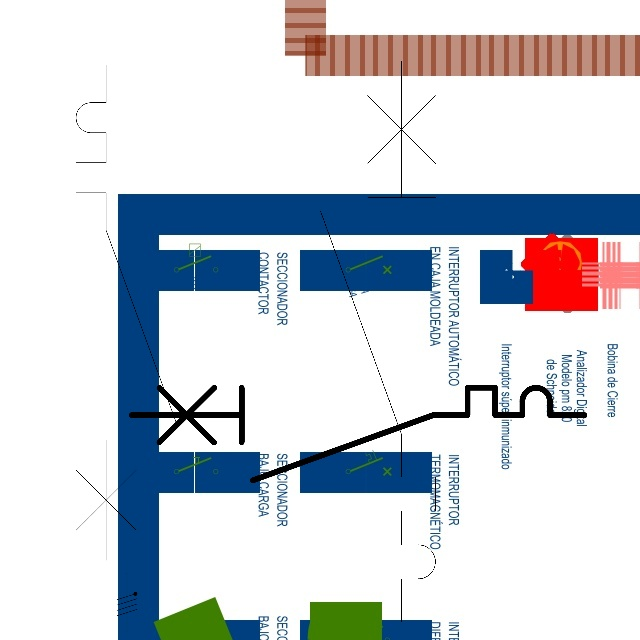interruptor_termomagnetico: (306, 47, 450, 636), (63, 52, 190, 573), (120, 376, 596, 492)
